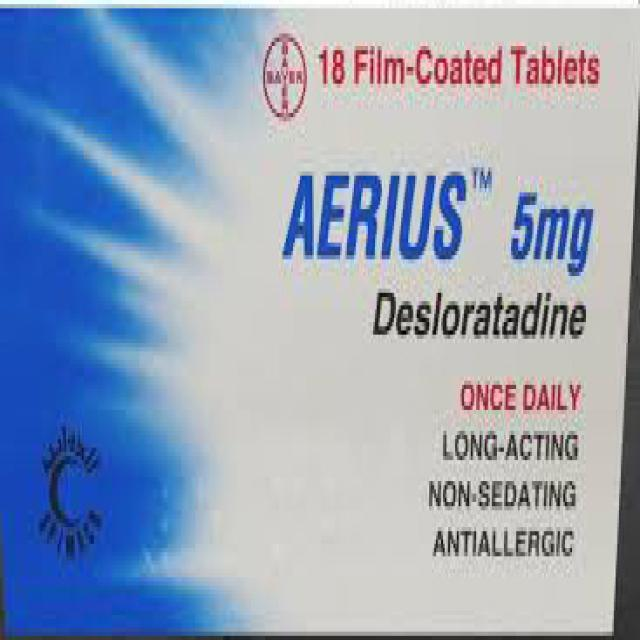drug-name: (282, 162, 470, 260)
